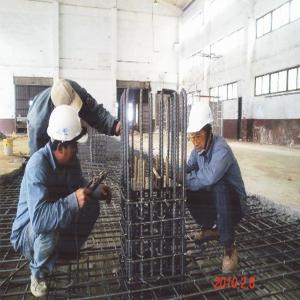white: (47, 104, 83, 164), (188, 99, 215, 156)
